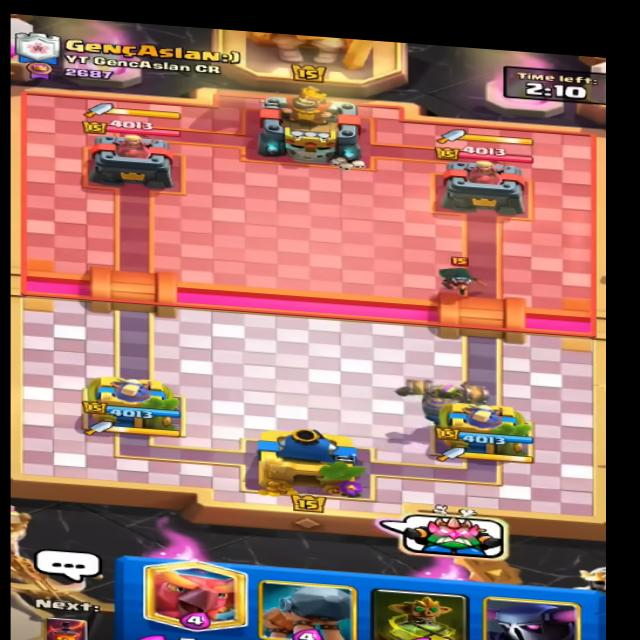Bandit: (418, 252, 494, 299)
